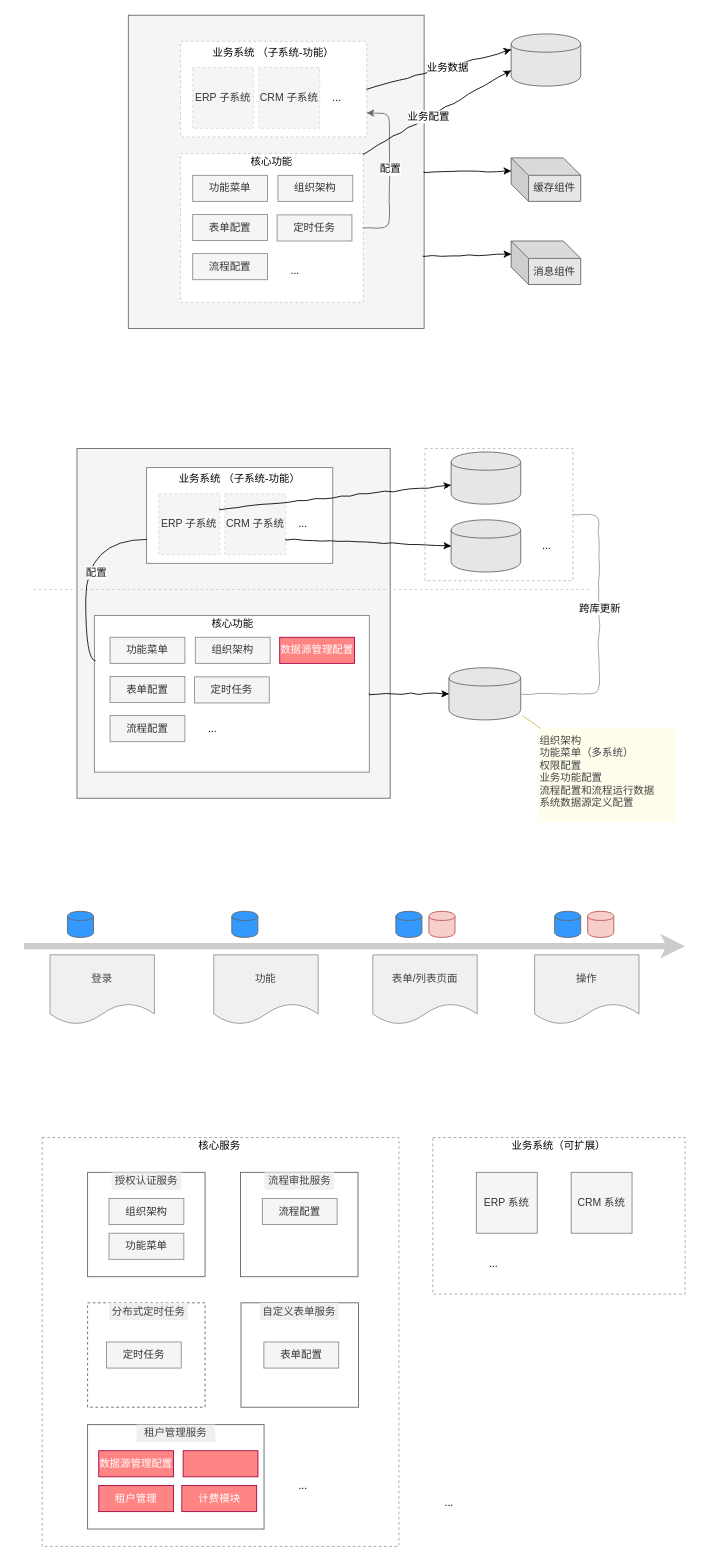
The diagram is 710 pixels wide and 1562 high, and some of its shapes have lost their labels. Here are the shapes that lost their labels. From the top down, the centre of each, then its label:
At (545,59): "数据库".
At (485,477): "ERP 数据库".
At (485,545): "CRM 数据库".
At (484,693): "配置库".
At (220,1463): "服务授权".
